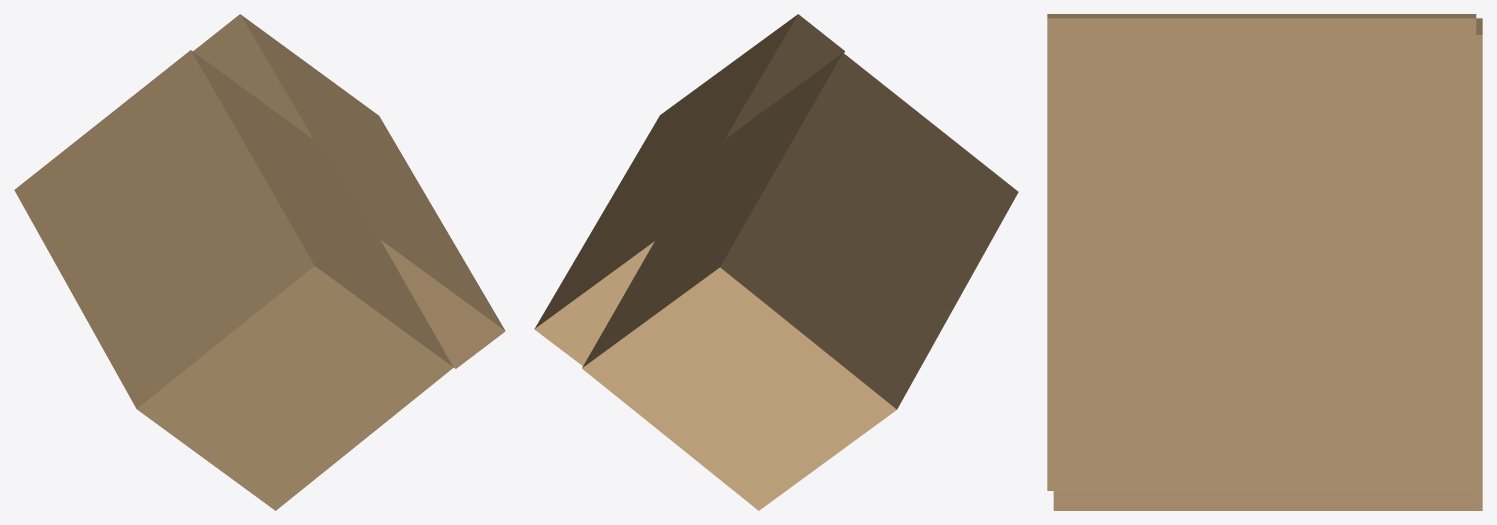
3 renders of one model, left to right at view 1: azimuth 30°, elevation 25°; view 2: azimuth 150°, elevation 25°; view 3: azimuth 270°, elevation 25°, orthographic. The views are drawn at different scales.
Visible parts, largest first — view 1: 0_0_1_2_0_0_3_1_0; view 2: 0_0_1_2_0_0_3_1_0; view 3: 0_0_1_2_0_0_3_1_0.
Part boxes in pixels (bbox=[...]): 0_0_1_2_0_0_3_1_0: bbox=[14, 14, 505, 510]; 0_0_1_2_0_0_3_1_0: bbox=[534, 14, 1018, 510]; 0_0_1_2_0_0_3_1_0: bbox=[1047, 14, 1482, 510].
Size of the model in its own units: 39.26 by 39.83 by 27.4.
